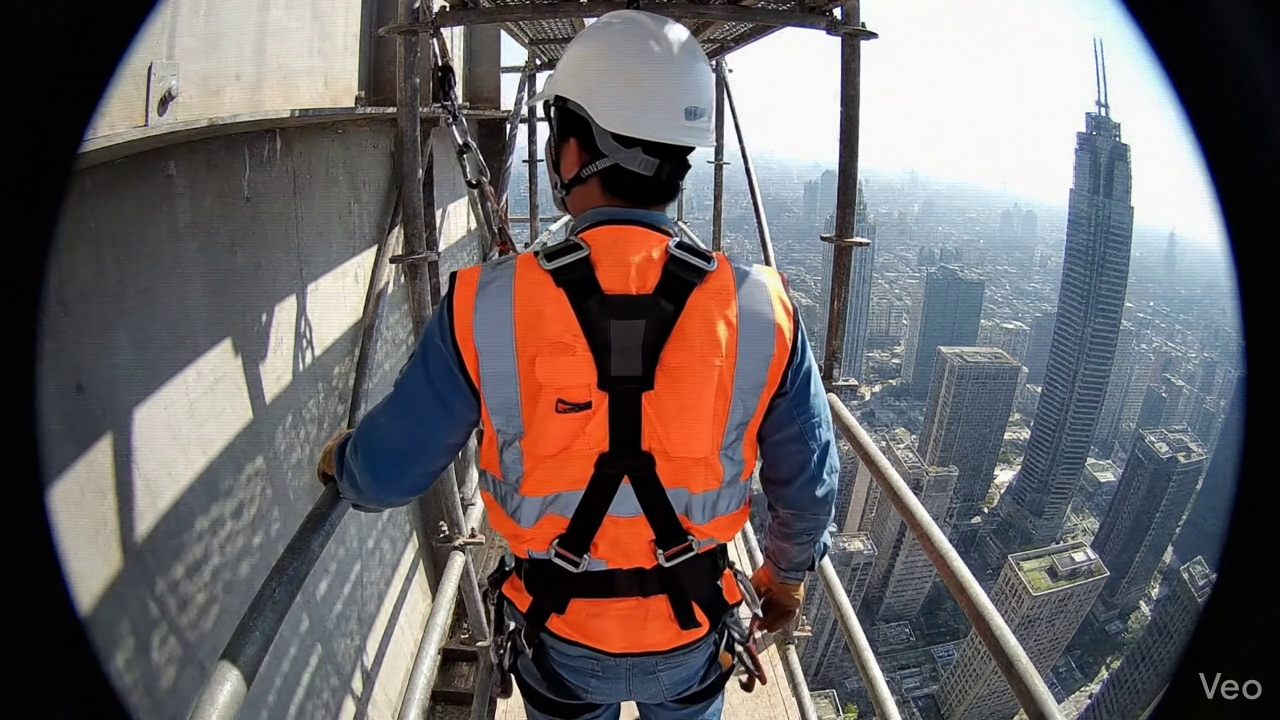person: (318, 10, 837, 719)
